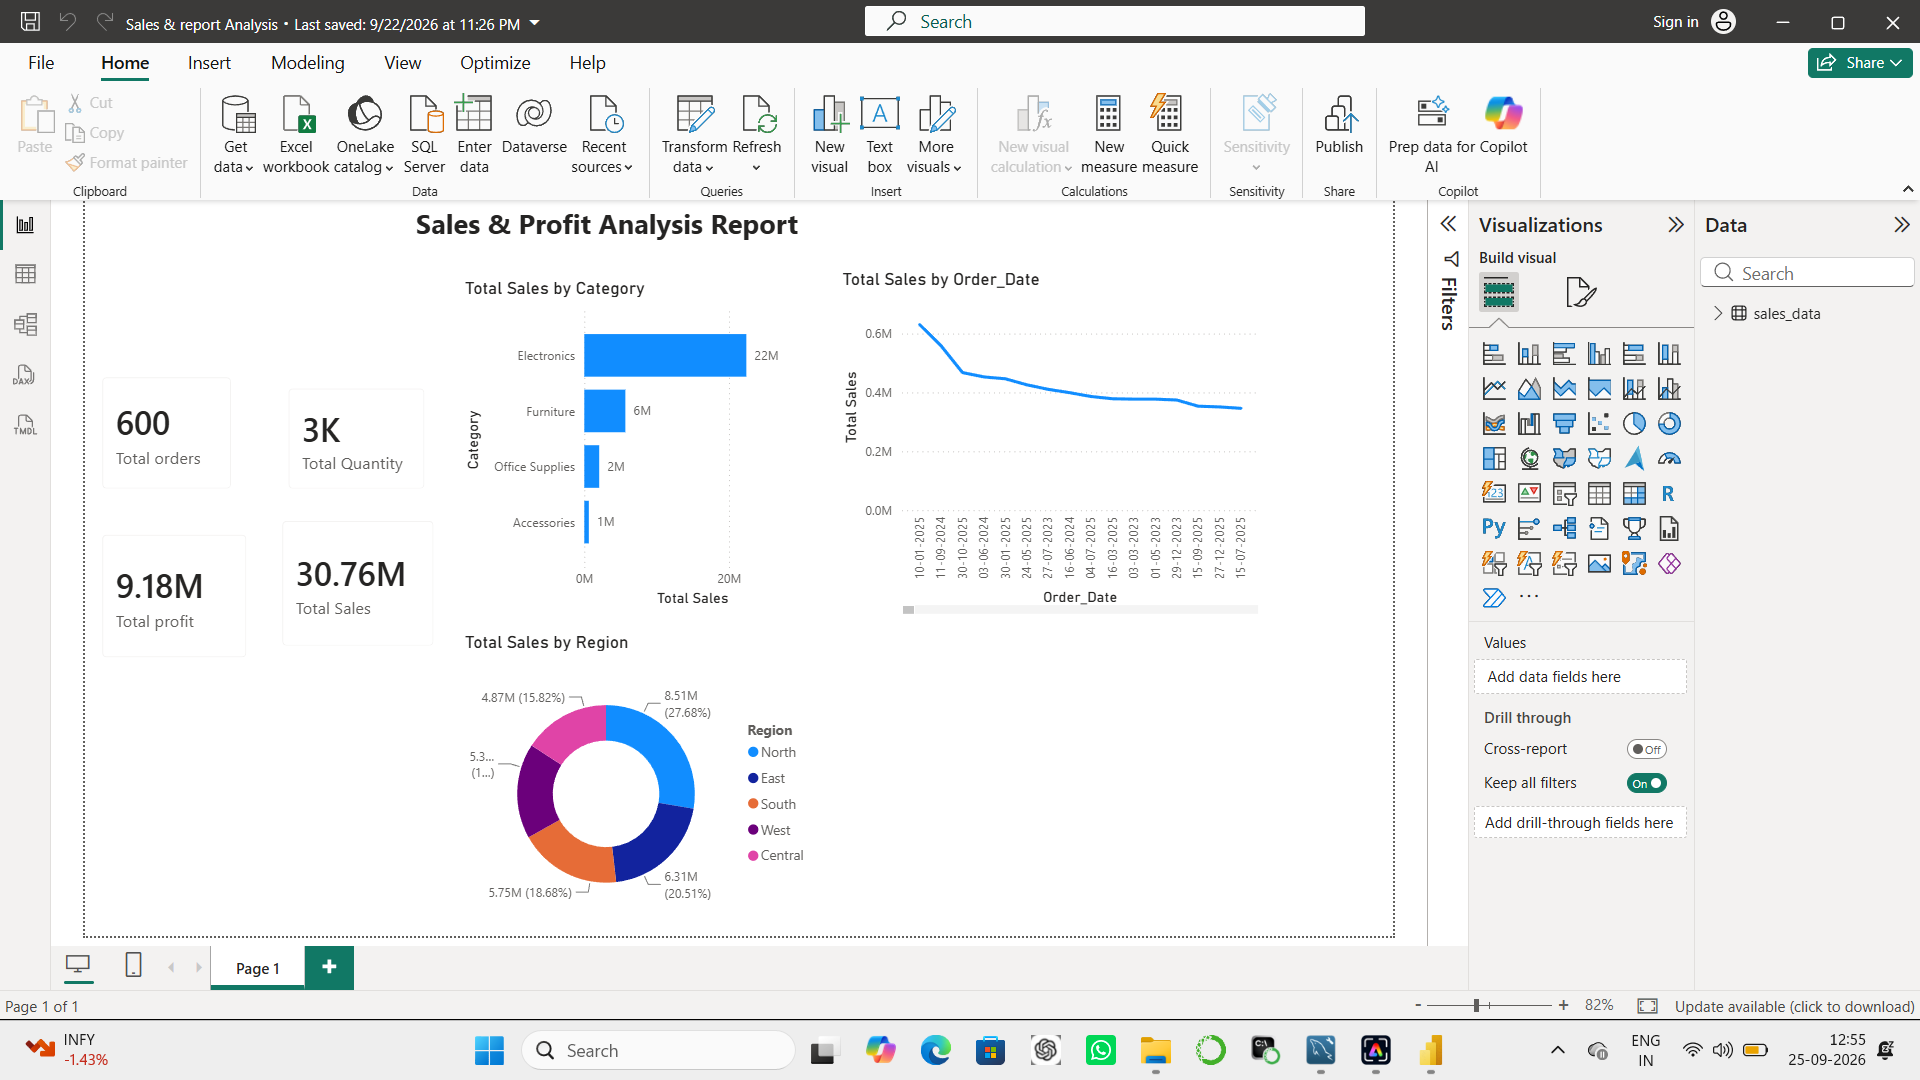

This screenshot's page, from the dashboard's own definition file:
{"tool":"powerbi","page":{"name":"Page 1","canvas":[1280,720],"ordinal":0},"visuals":[{"type":"cardVisual","fields":{"Data":["sales_data.Total orders"]},"box":[0,156.7,160,143.3],"z":0},{"type":"cardVisual","fields":{"Data":["sales_data.Total profit"]},"box":[0,311.1,175.6,154.4],"z":1000},{"type":"cardVisual","fields":{"Data":["sales_data.Total Quantity"]},"box":[182.2,167.8,167.8,132.2],"z":2000},{"type":"cardVisual","fields":{"Data":["sales_data.Total Sales"]},"box":[175.6,296.7,182.2,156.7],"z":3000},{"type":"barChart","fields":{"Category":["sales_data.Category"],"Y":["sales_data.Total Sales"]},"box":[366.7,75.6,351.1,326.7],"z":4000},{"type":"donutChart","fields":{"Category":["sales_data.Region"],"Y":["sales_data.Total Sales"]},"box":[366.7,422.2,351.1,297.8],"z":5000},{"type":"lineChart","fields":{"Category":["sales_data.Order_Date"],"Y":["sales_data.Total Sales"]},"box":[736.7,67.8,416.7,342.2],"z":5001},{"type":"textbox","box":[37.8,0,945.6,47.8],"z":5002}]}

Visuals, with their boxes on the page's 1280x720 design canvas (x1, y1, x2, y2). These are canvas units, not pixel positions in the 1920x1080 screenshot, which may show the page scaled, cropped or inside an application window:
cardVisual - sales_data.Total orders: Rect(0, 157, 160, 300)
cardVisual - sales_data.Total profit: Rect(0, 311, 176, 466)
cardVisual - sales_data.Total Quantity: Rect(182, 168, 350, 300)
cardVisual - sales_data.Total Sales: Rect(176, 297, 358, 453)
barChart - sales_data.Category x sales_data.Total Sales: Rect(367, 76, 718, 402)
donutChart - sales_data.Region x sales_data.Total Sales: Rect(367, 422, 718, 720)
lineChart - sales_data.Order_Date x sales_data.Total Sales: Rect(737, 68, 1153, 410)
textbox: Rect(38, 0, 983, 48)
